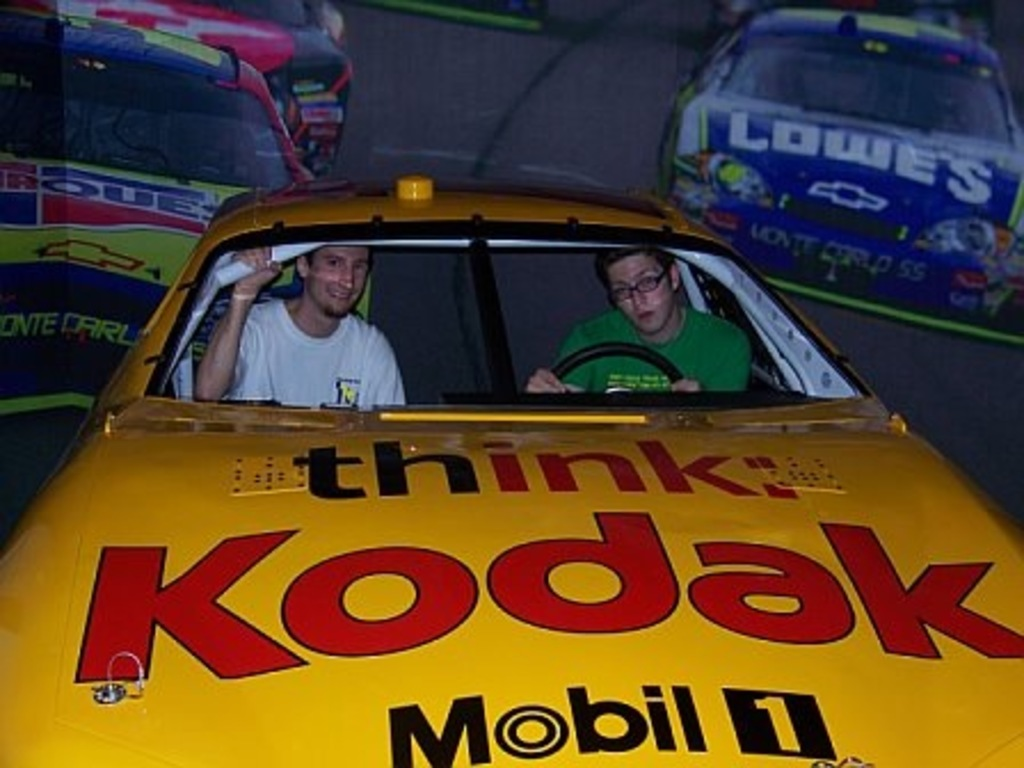face: (605, 253, 673, 329)
